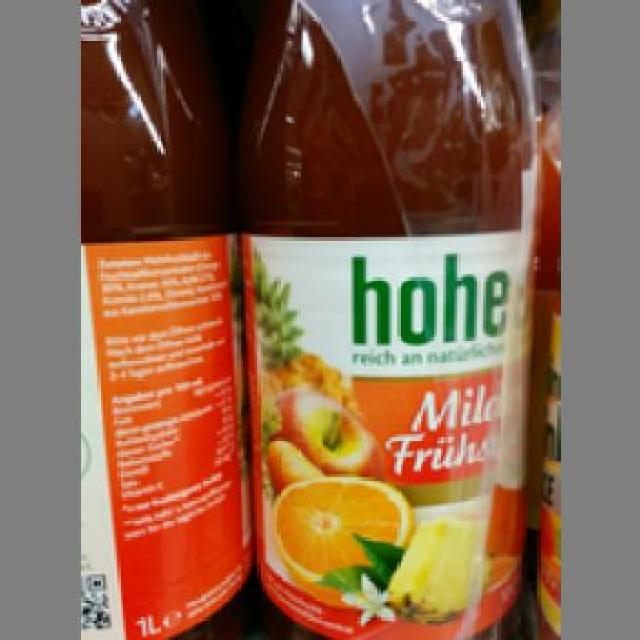Juice: (233, 0, 532, 635), (76, 0, 250, 637)
